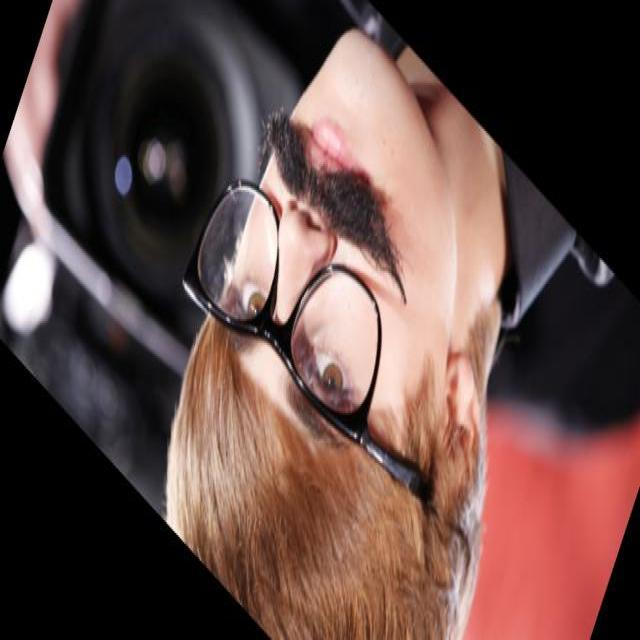glasses: (180, 130, 460, 538)
